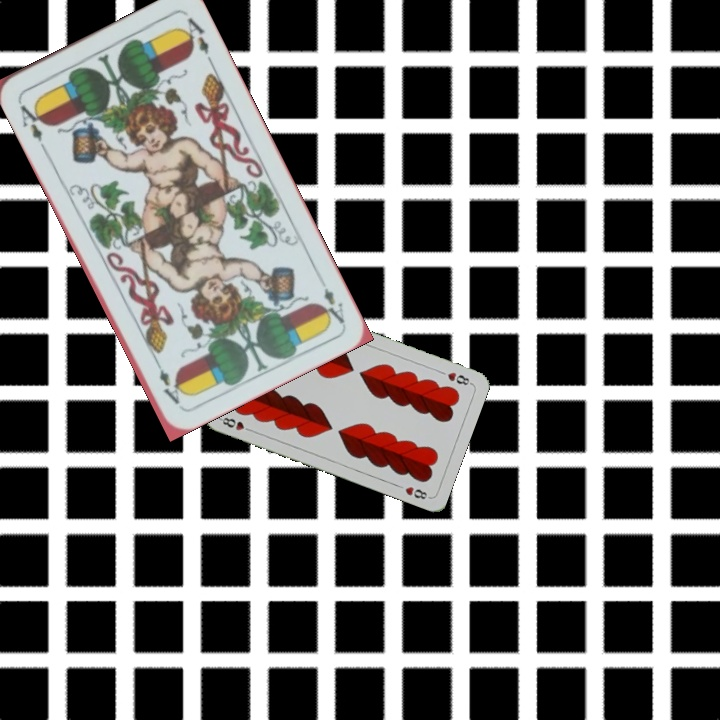EA: (14, 97, 49, 152), (316, 282, 347, 326)
H8: (216, 413, 255, 434), (443, 368, 474, 388)
